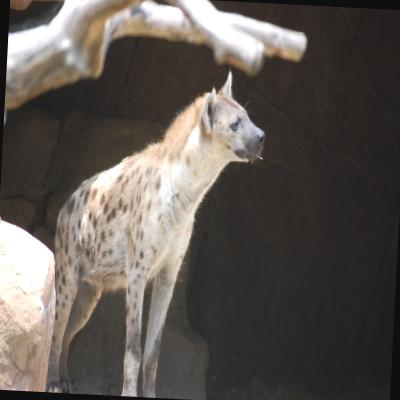hyenas: (28, 67, 312, 400)
